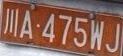A: (20, 10, 33, 39)
